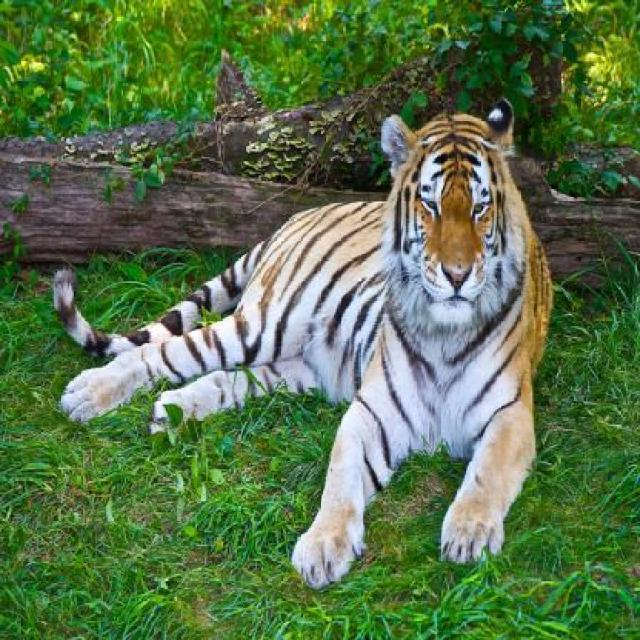tiger: (51, 96, 554, 591)
